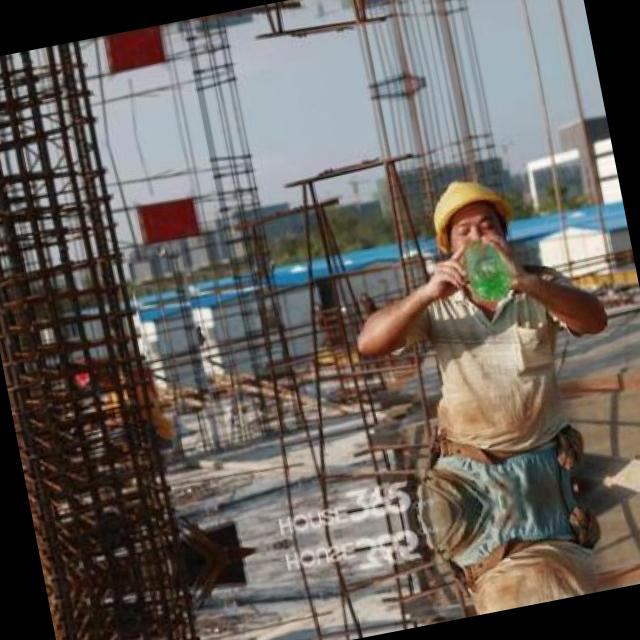helmet: (416, 161, 522, 270)
